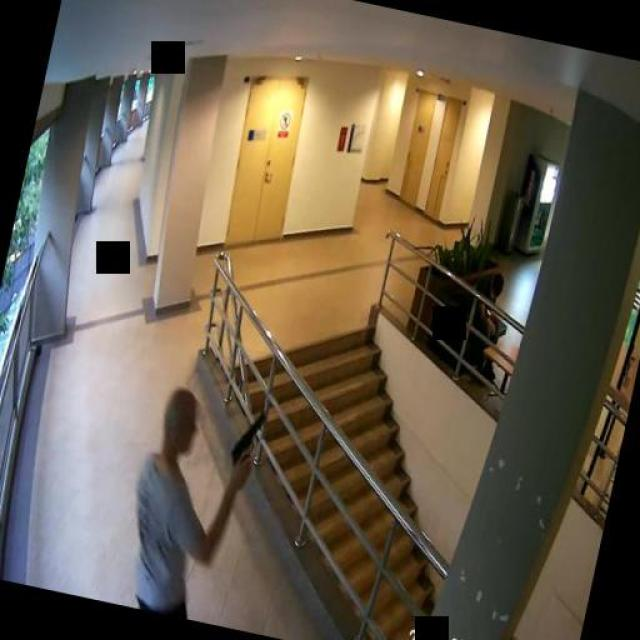gun: (225, 405, 265, 476)
